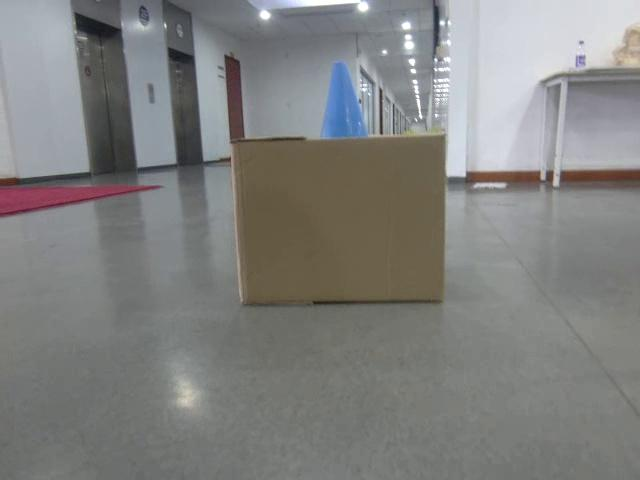blue_barrel: (318, 60, 368, 140)
